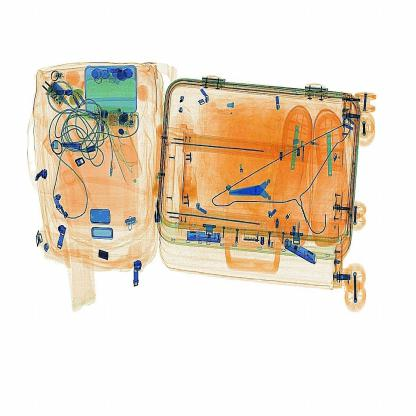gun: (220, 159, 298, 216)
